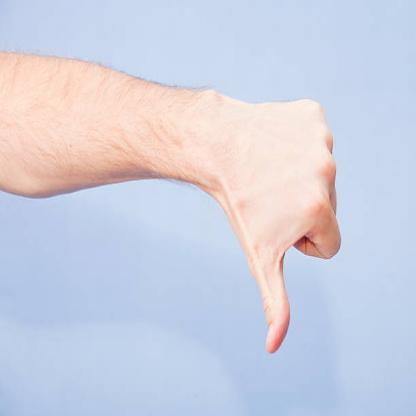thumb_down: (228, 93, 344, 356)
